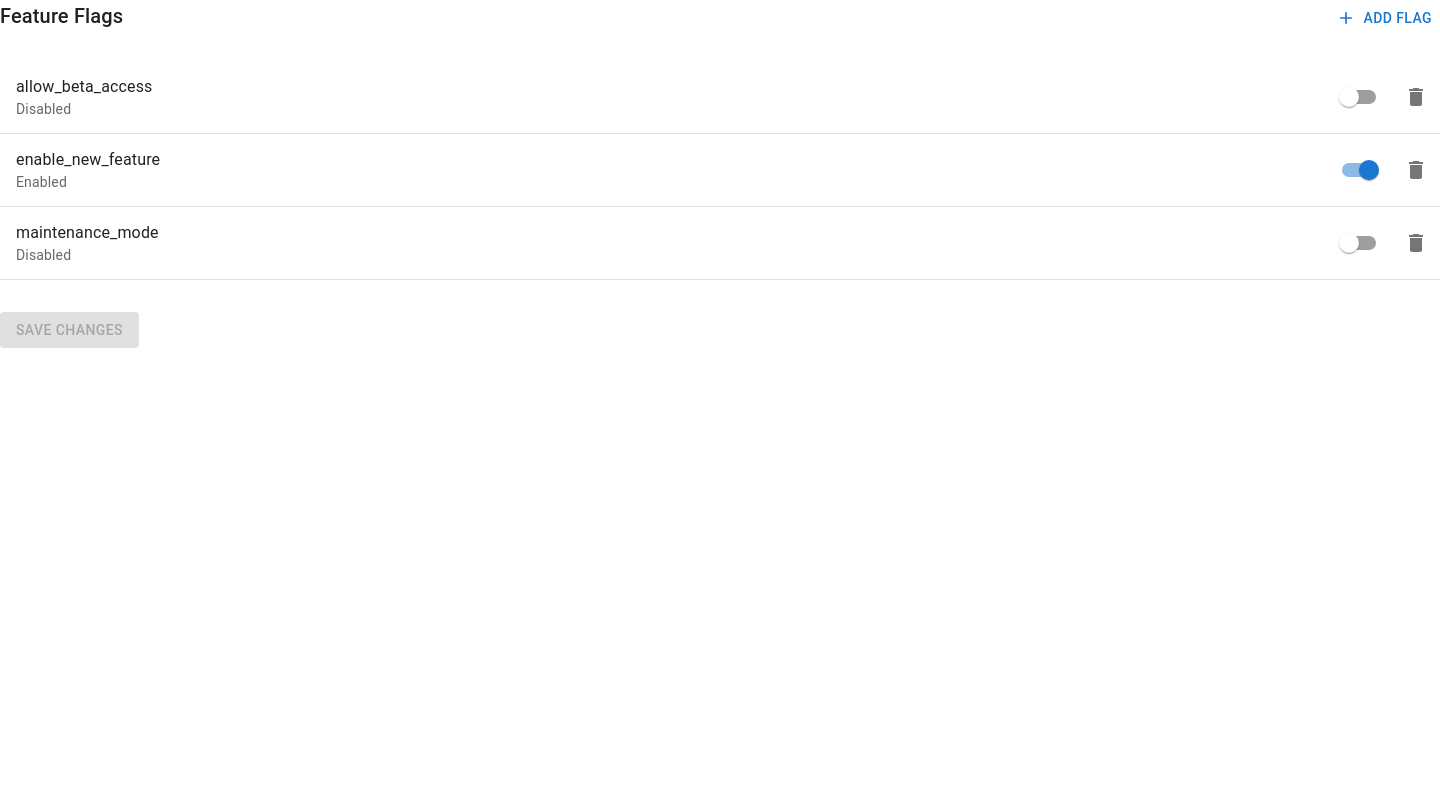
Test: FeatureFlagsList › Add Flag Dialog › should add new flag when Add button clicked with valid name
This screenshot has width=1440, height=810.
Click the button "Add Flag".
click(1386, 18)  # box [1332,0,1439,36]
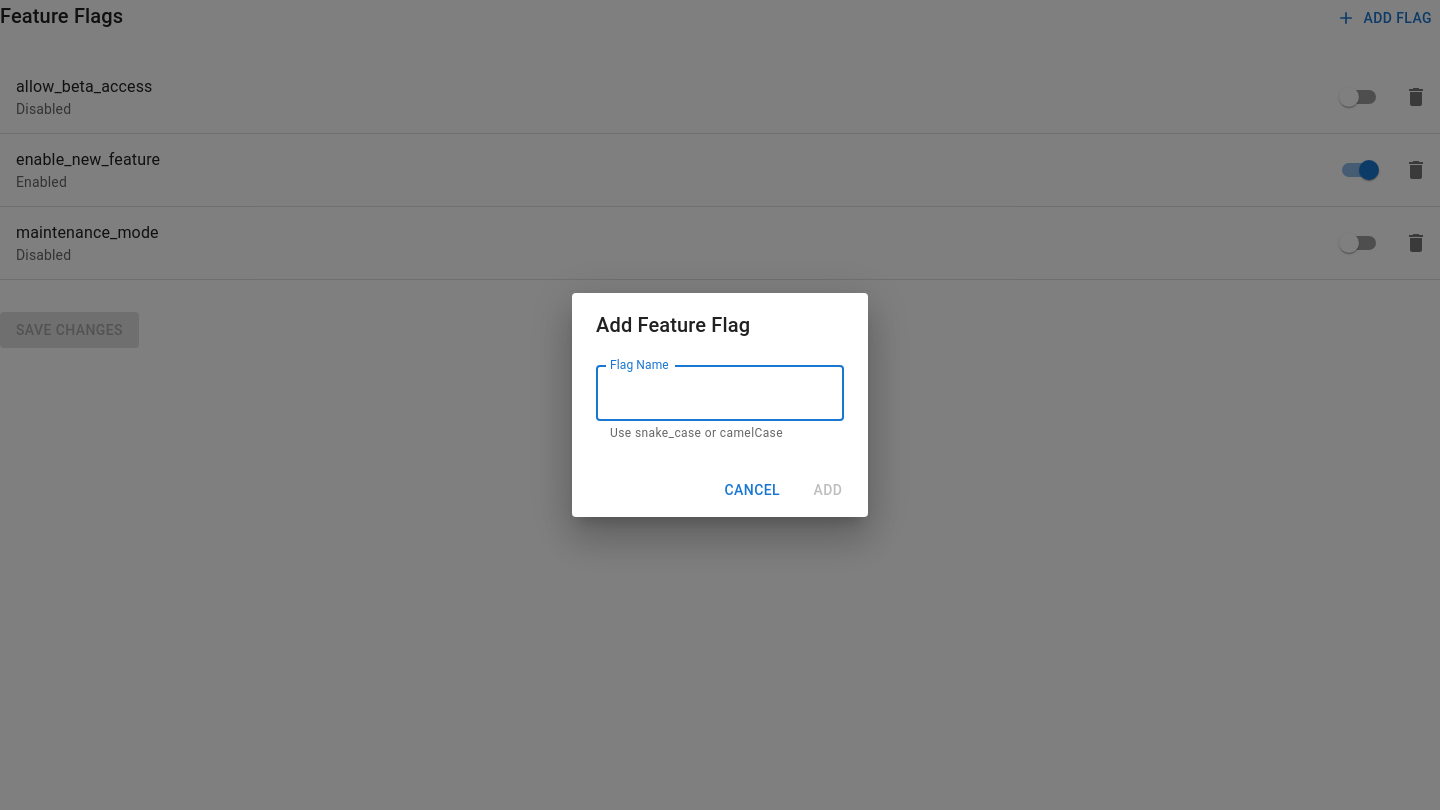
Type "new_feature_flag" into the field labelled "Flag Name".
click(720, 393); type("new_feature_flag")  # box [596,365,844,421]
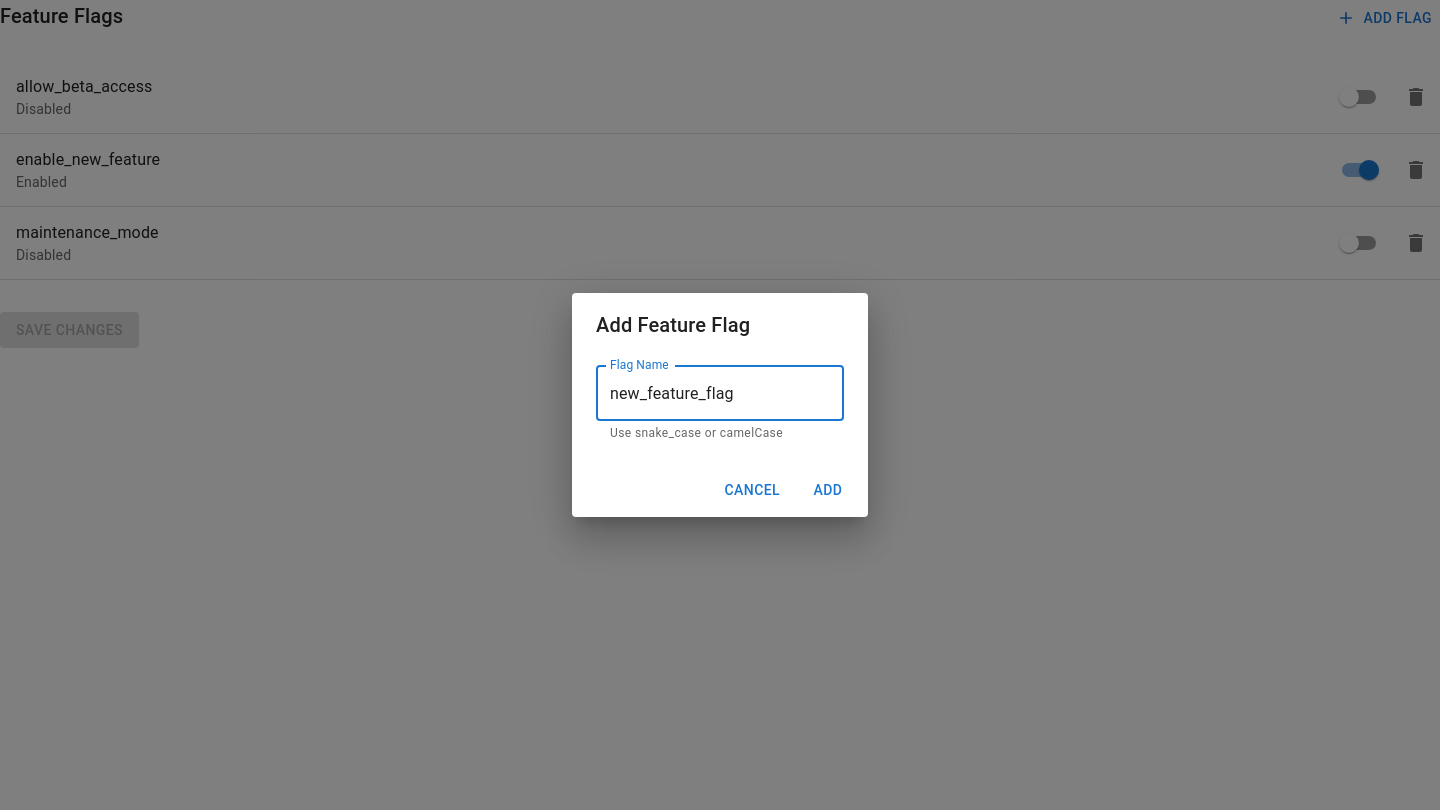
Click the button "Add".
click(828, 490)  # box [796,472,860,509]
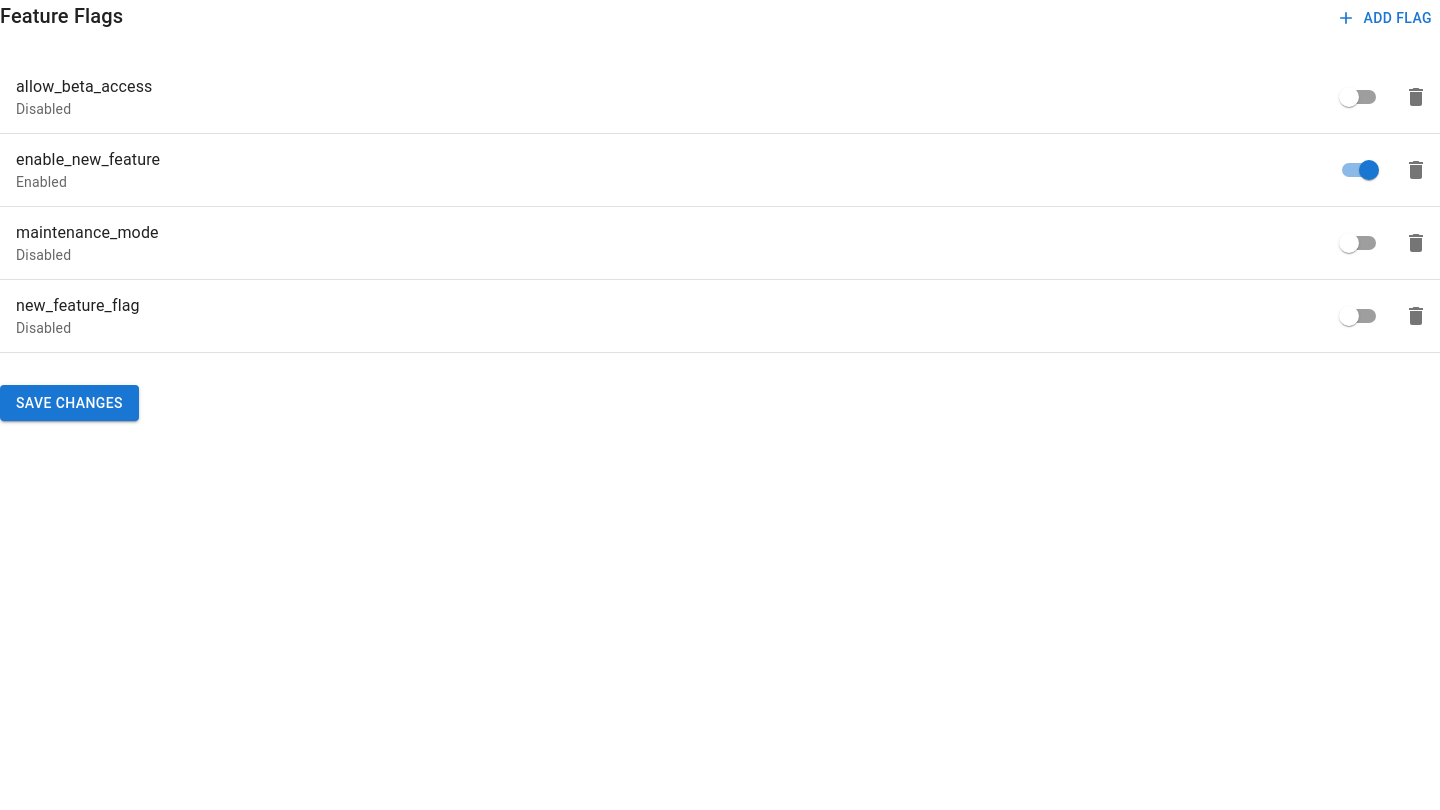
Now the text "new_feature_flag" is shown, box [16,296,140,314]
